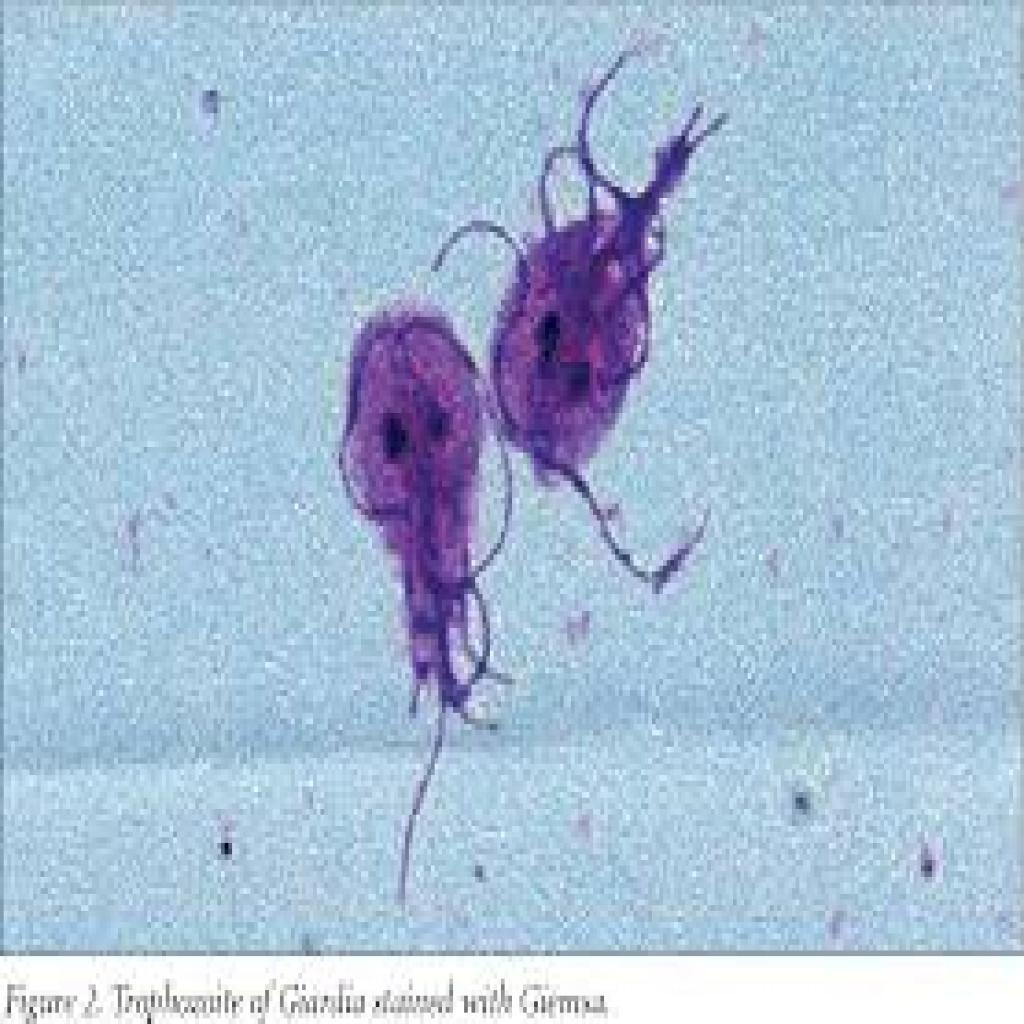Giardia: (490, 113, 707, 577), (335, 288, 505, 752)
